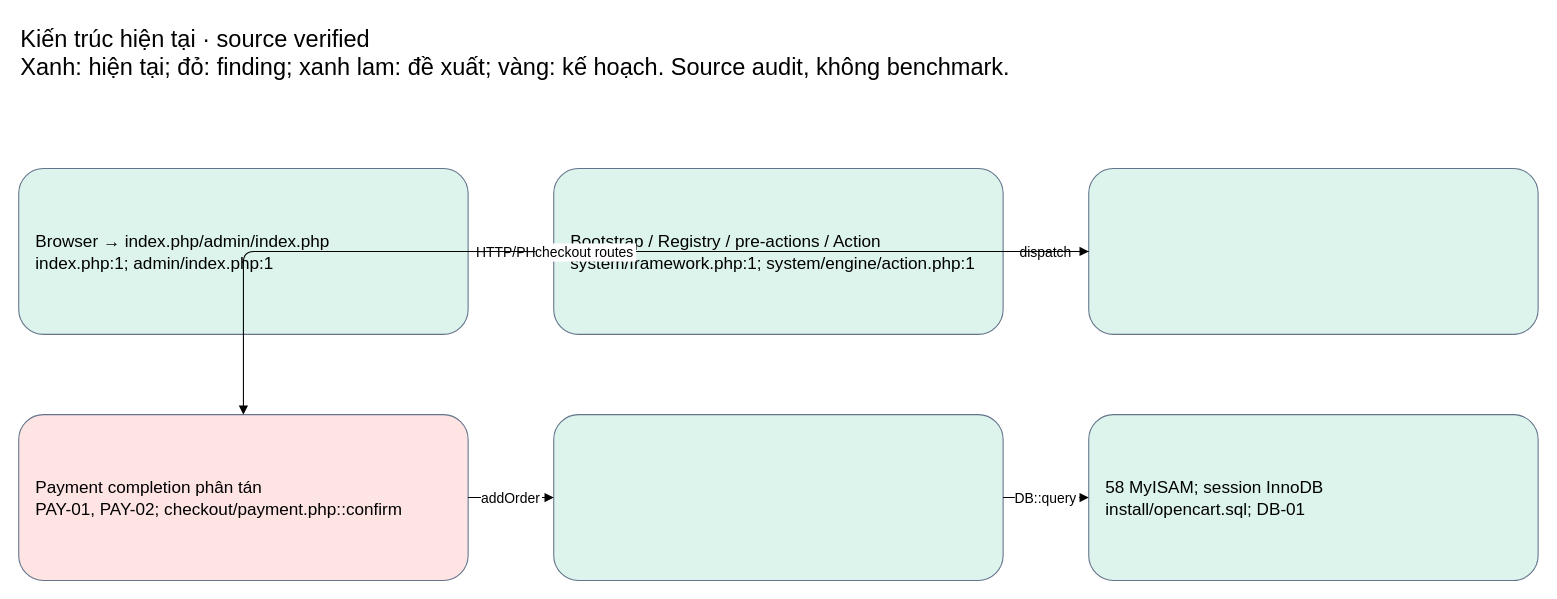
This 1557x599 diagram has some shape labels left out. Each missing label, with the centre of its shape:
"Controller / Model / Library system/engine/loader.php:1" belongs at [1313,250].
"SQL order/sales/commission; mail đồng bộ application/model/account/order.php:3" belongs at [778,497].
